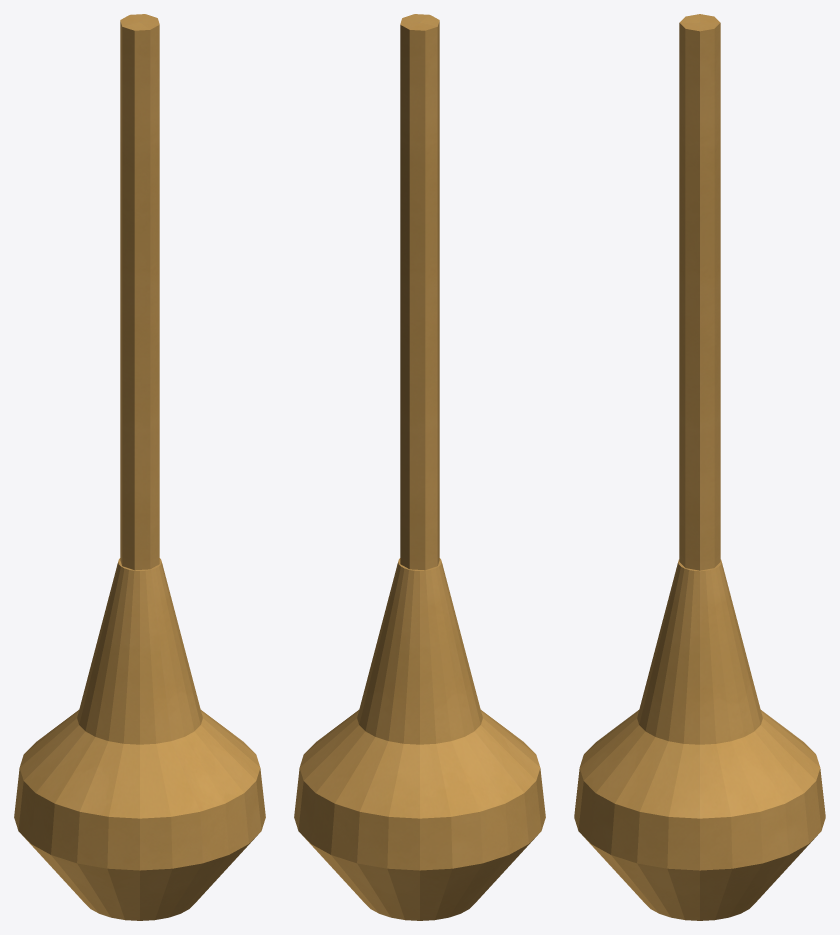
Rendered from SM_Theater_Lamp_ChandelierHub.fbx.
3 renders of one model, left to right at view 1: azimuth 30°, elevation 25°; view 2: azimuth 150°, elevation 25°; view 3: azimuth 270°, elevation 25°, orthographic.
Visible parts, largest first — view 1: SM_Theater_Lamp_ChandelierHub_LOD0; view 2: SM_Theater_Lamp_ChandelierHub_LOD0; view 3: SM_Theater_Lamp_ChandelierHub_LOD0.
Part boxes in pixels (box(x1,y1,x2,y2)): SM_Theater_Lamp_ChandelierHub_LOD0: box(14, 14, 265, 920); SM_Theater_Lamp_ChandelierHub_LOD0: box(294, 14, 545, 920); SM_Theater_Lamp_ChandelierHub_LOD0: box(574, 14, 825, 920).
Size of what is drawn, in the model's own units: 0.92 by 3.53 by 0.92.
